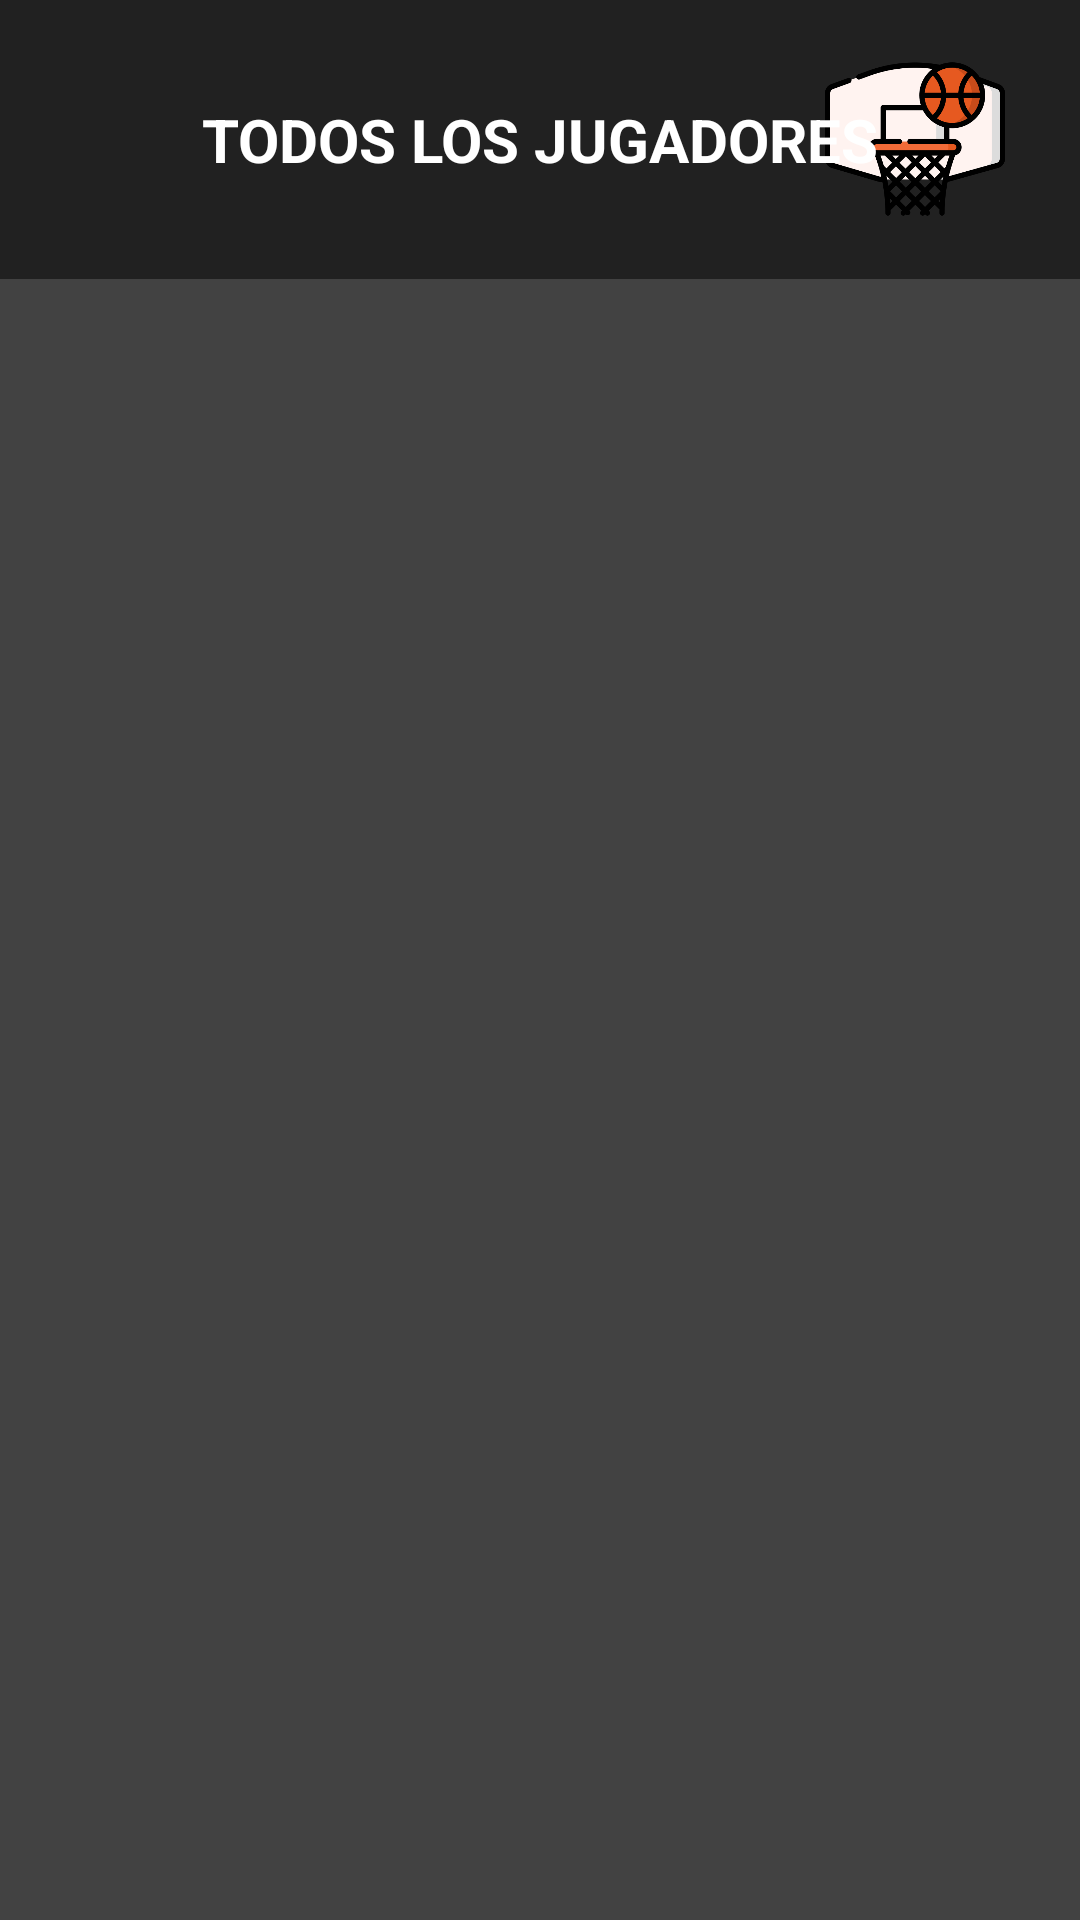

Screen size 1080w x 1920h. Icon name, then its center in pixels as [x,y]:
pelota: [915,139]
